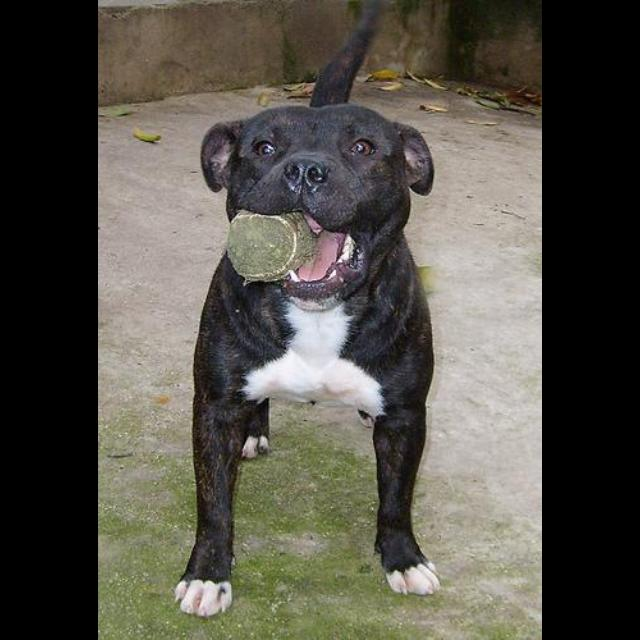staffford: (174, 1, 442, 619)
